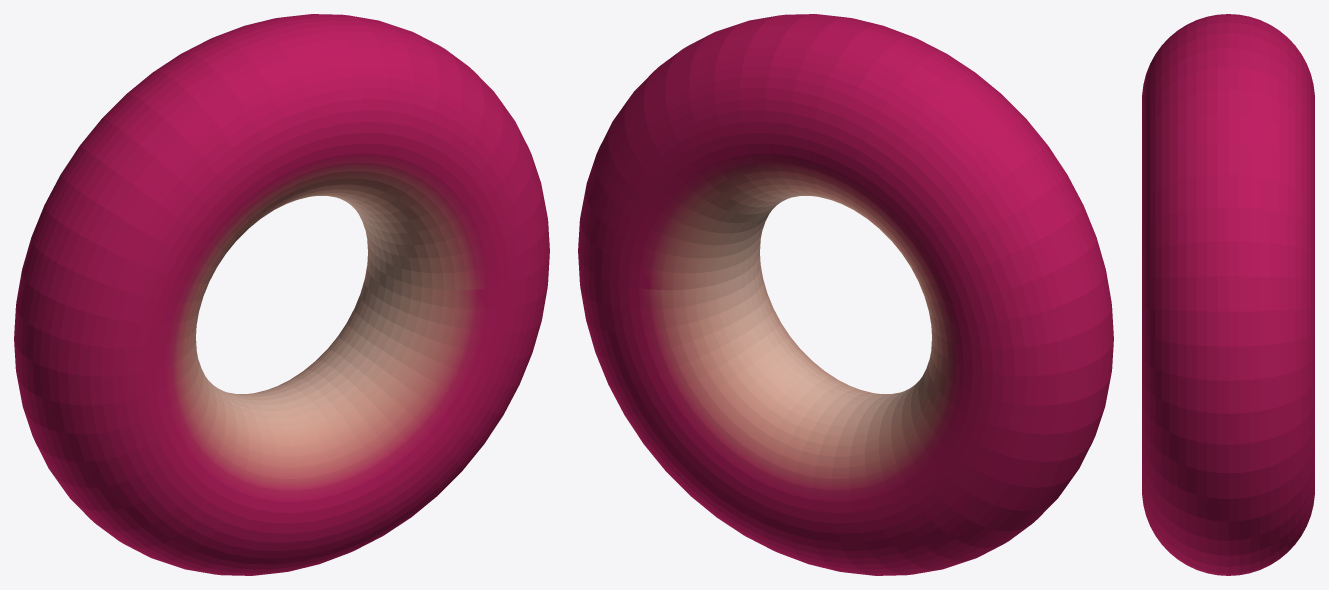
3 renders of one model, left to right at view 1: azimuth 30°, elevation 25°; view 2: azimuth 150°, elevation 25°; view 3: azimuth 270°, elevation 25°, orthographic. The views are drawn at different scales.
Visible parts, largest first — view 1: world; view 2: world; view 3: world.
Boxes of the visible parts, bbox=[...] form: world: bbox=[14, 14, 549, 575]; world: bbox=[578, 14, 1113, 575]; world: bbox=[1142, 14, 1314, 575].
Bounding box in the file's own units: 29.87 × 29.81 × 9.18.
